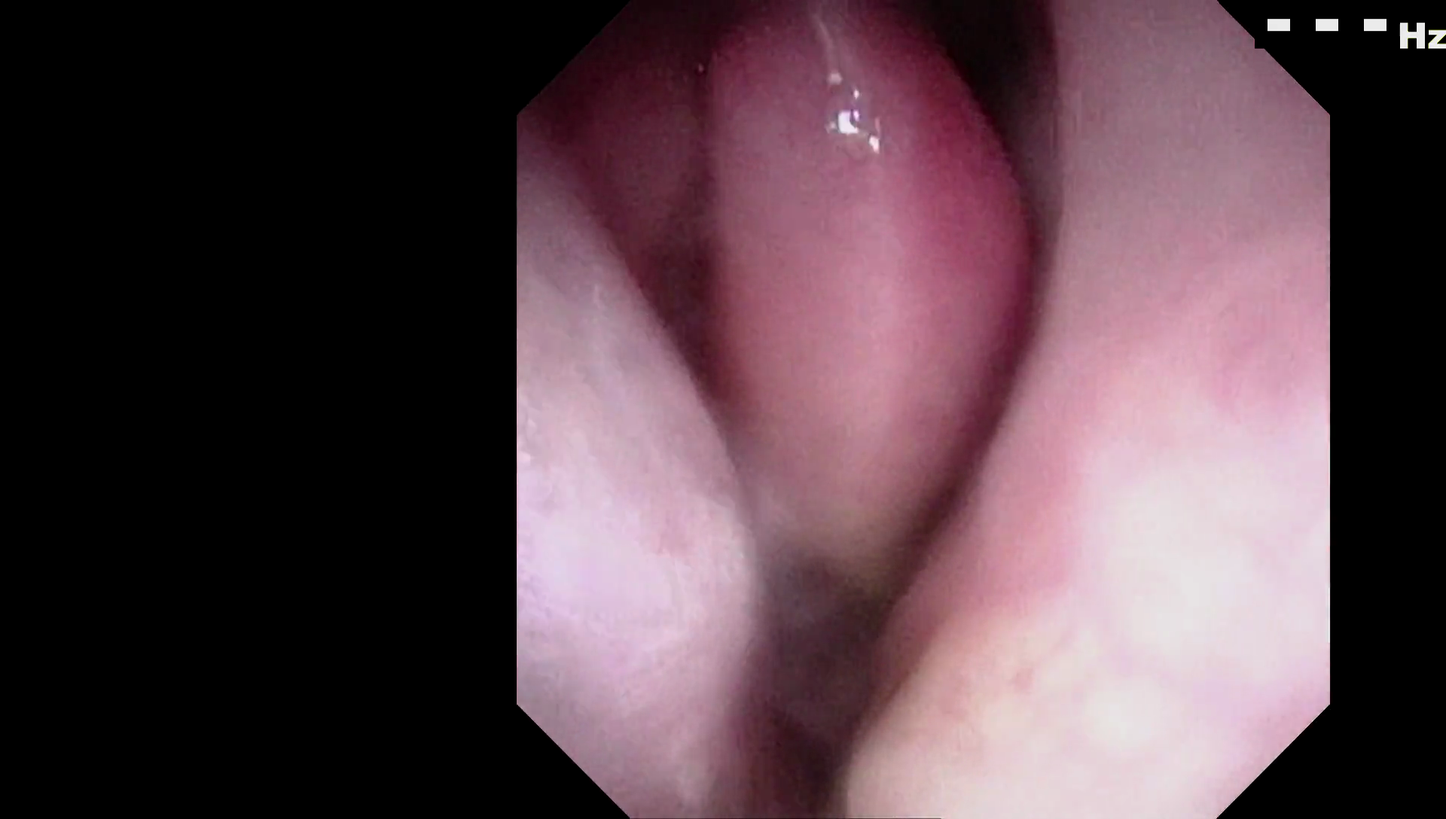close_wall: (879, 312, 1326, 817)
next: (670, 462, 900, 819), (891, 0, 1072, 180)
